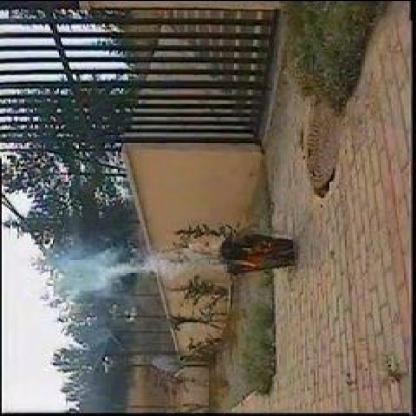-: (50, 248, 146, 294)
foggia-v2-map80-epoch100 - v1 4323: (220, 253, 265, 270)
